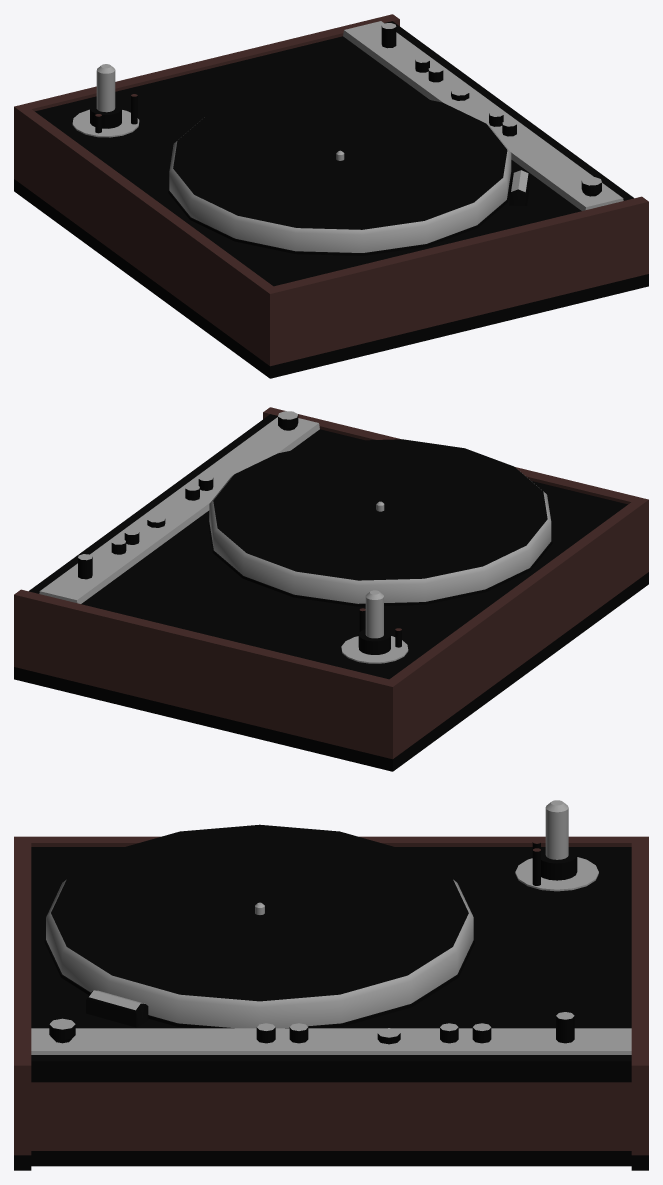
Rendered from TurnTable.fbx.
3 renders of one model, top to bottom at view 1: azimuth 30°, elevation 25°; view 2: azimuth 150°, elevation 25°; view 3: azimuth 270°, elevation 25°, orthographic. The views are drawn at different scales.
Visible parts, largest first — view 1: Cube; view 2: Cube; view 3: Cube.
Boxes of the visible parts, x1,y1,x2,y2 form: Cube: (14, 14, 648, 378); Cube: (14, 407, 648, 771); Cube: (14, 800, 648, 1170).
Bounding box in the file's own units: 200 × 70.03 × 234.
